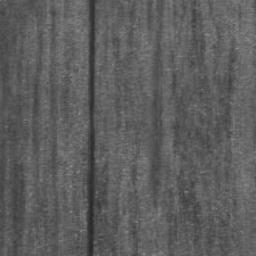Scratches: (86, 0, 95, 256)
